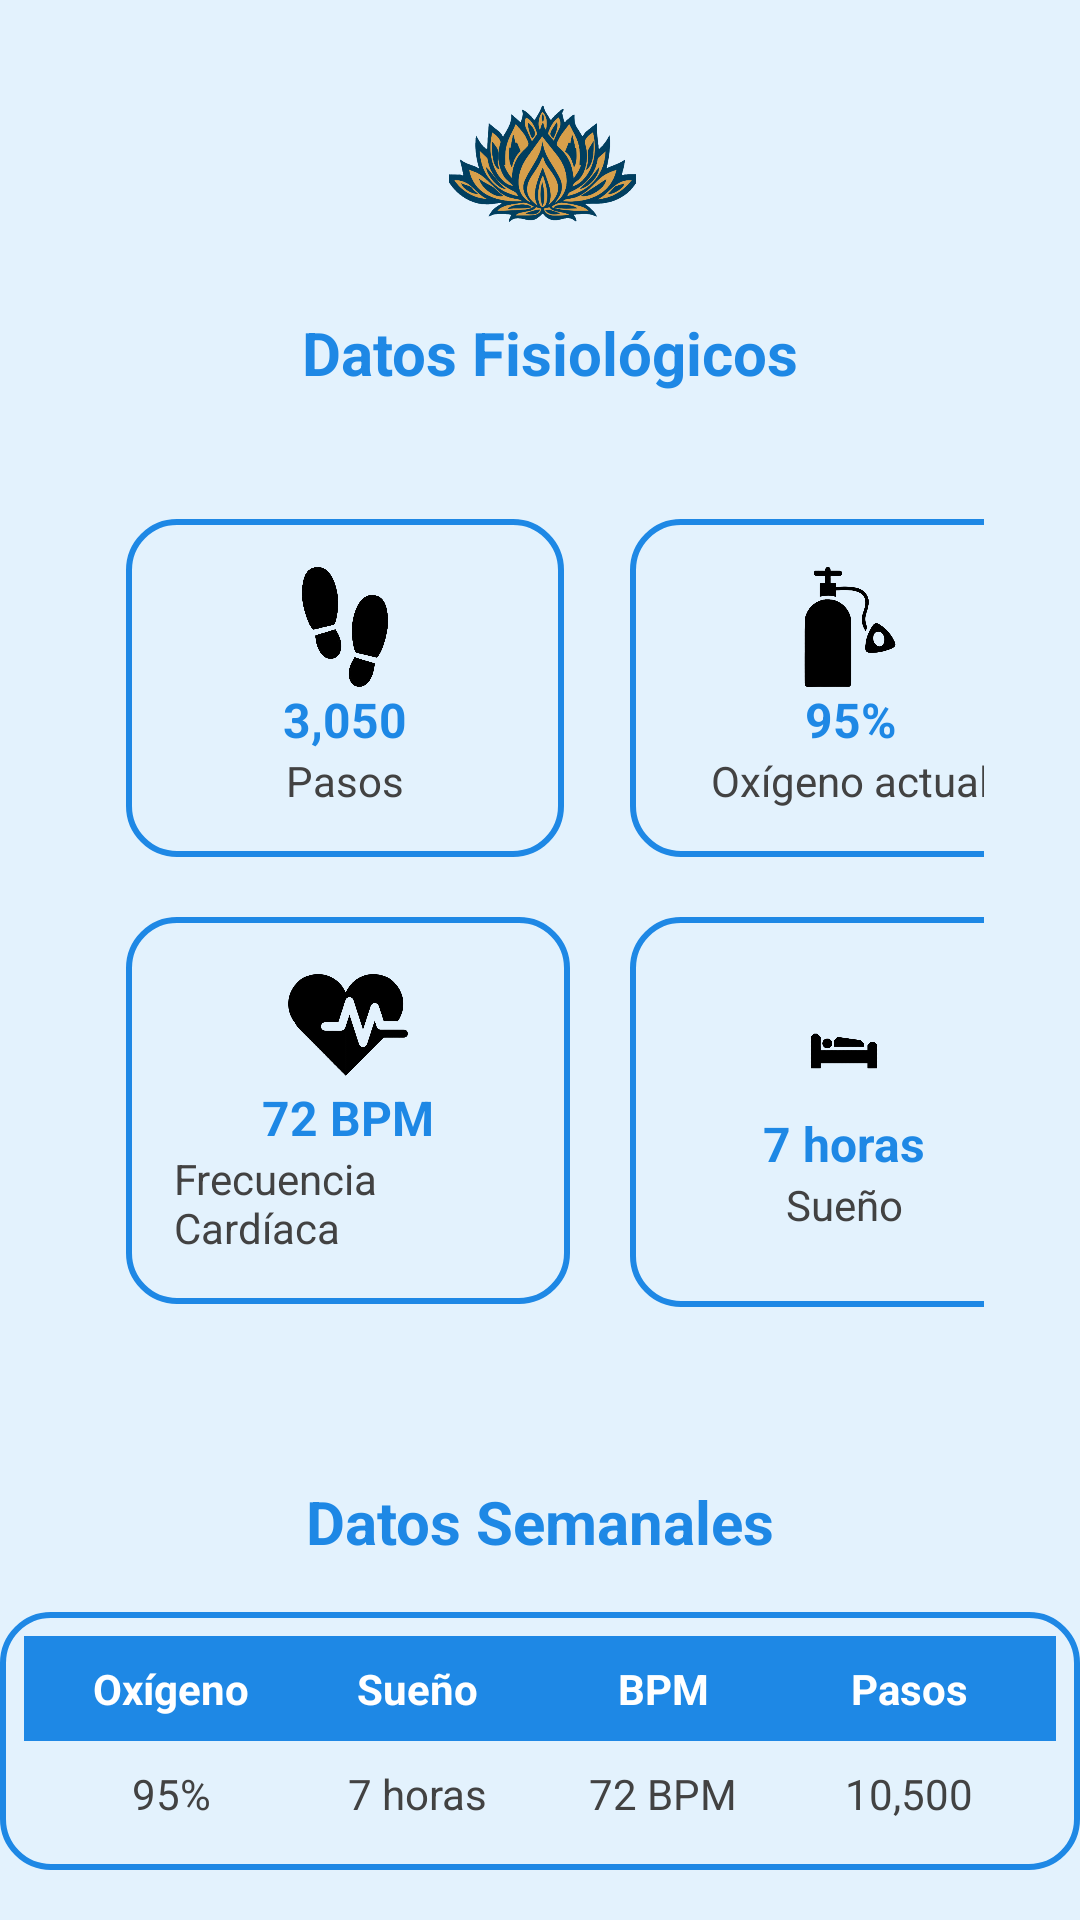

Icon bounding boxes for this 1080 x 1920 phone screenshot, format region(x1, y1, x2, y2):
heart rate: region(288, 974, 408, 1076)
oxygen: region(804, 567, 896, 687)
sleep: region(811, 1033, 877, 1069)
steps: region(302, 567, 388, 687)
